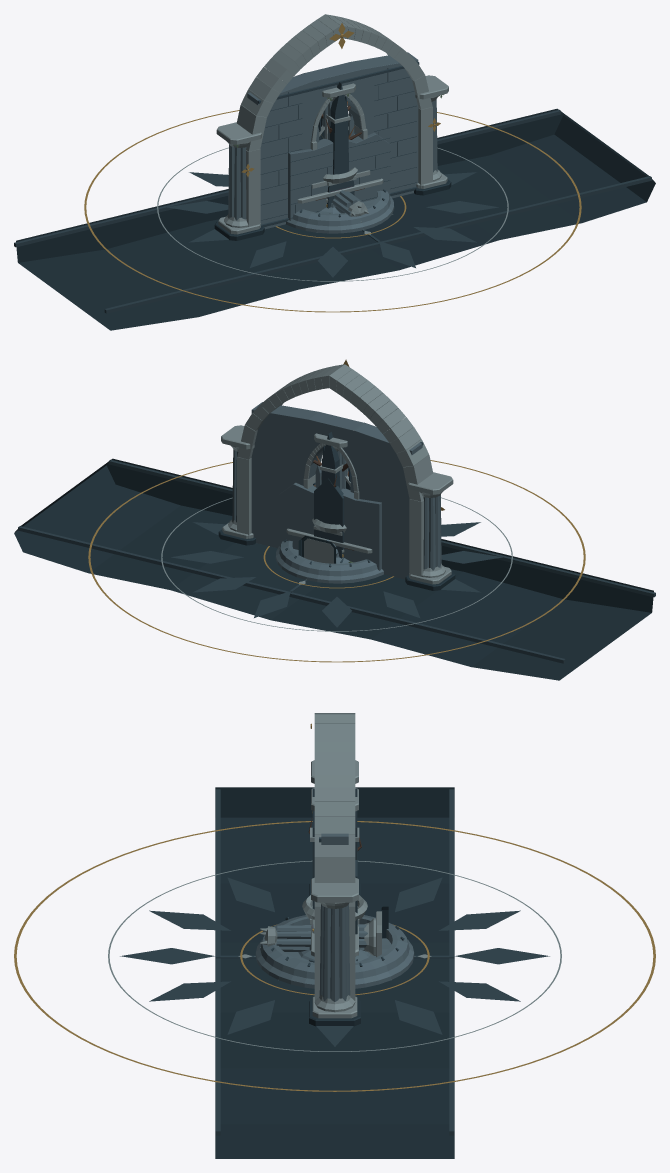
Rendered from castle-kit.glb.
3 renders of one model, top to bottom at view 1: azimuth 30°, elevation 25°; view 2: azimuth 150°, elevation 25°; view 3: azimuth 270°, elevation 25°, orthographic. The views are drawn at different scales.
Parts seen in each view (by area): view 1: foundation_mesh, wall_bay_mesh, portal_mesh, floor_medallion_mesh, wall_fragment_mesh, fountain_mesh, buttress_mesh, fallen_column_mesh, pillar_mesh, chapel_altar_mesh; view 2: foundation_mesh, wall_bay_mesh, portal_mesh, floor_medallion_mesh, wall_fragment_mesh, fountain_mesh, broken_throne_mesh, fallen_column_mesh, buttress_mesh, pillar_mesh; view 3: foundation_mesh, floor_medallion_mesh, portal_mesh, fountain_mesh, fallen_column_mesh.
Boxes of the visible parts, x1,y1,x2,y2 form: foundation_mesh: (14,108,655,330); wall_bay_mesh: (247,52,419,229); portal_mesh: (214,14,451,240); floor_medallion_mesh: (84,110,581,312); wall_fragment_mesh: (288,132,390,220); fountain_mesh: (286,167,394,233); buttress_mesh: (318,82,356,208); fallen_column_mesh: (332,190,368,222); pillar_mesh: (322,83,355,139); chapel_altar_mesh: (297,178,383,203); foundation_mesh: (14,458,655,680); wall_bay_mesh: (251,402,423,579); portal_mesh: (218,359,455,590); floor_medallion_mesh: (88,460,585,662); wall_fragment_mesh: (279,482,381,570); fountain_mesh: (275,518,383,583); broken_throne_mesh: (314,465,353,552); fallen_column_mesh: (298,535,338,563); buttress_mesh: (313,432,351,558); pillar_mesh: (314,433,347,489); foundation_mesh: (215,787,454,1158); floor_medallion_mesh: (14,821,655,1091); portal_mesh: (309,713,360,1026); fountain_mesh: (255,895,414,988); fallen_column_mesh: (260,906,388,957).
Size of the model in its own units: 27.4 by 10.74 by 21.48.
